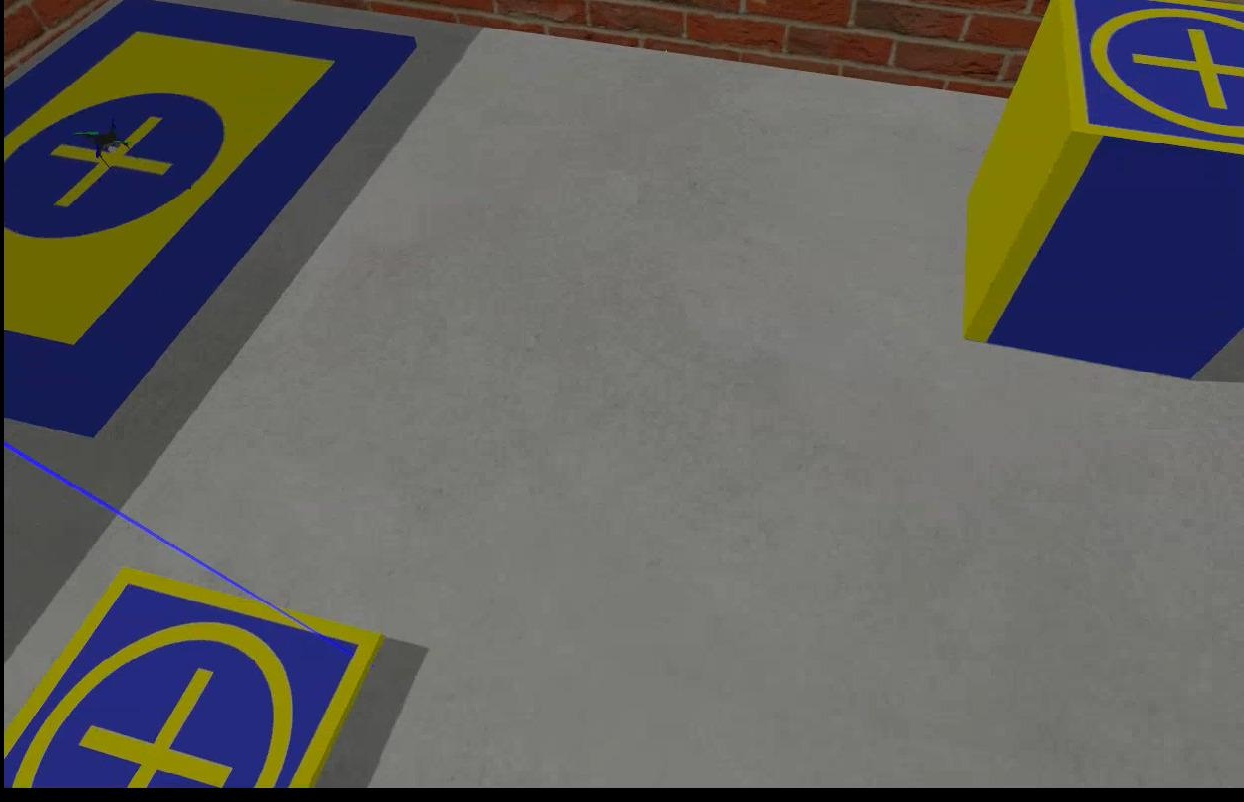large_base: (0, 1, 417, 442)
small_base: (3, 567, 377, 788), (1062, 1, 1242, 163)
